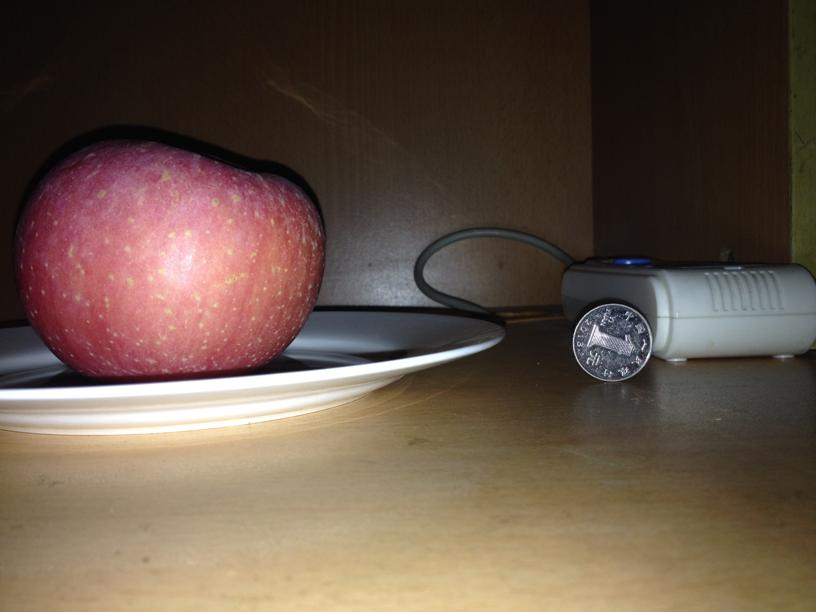apple: (28, 143, 322, 380)
coin: (571, 300, 654, 382)
